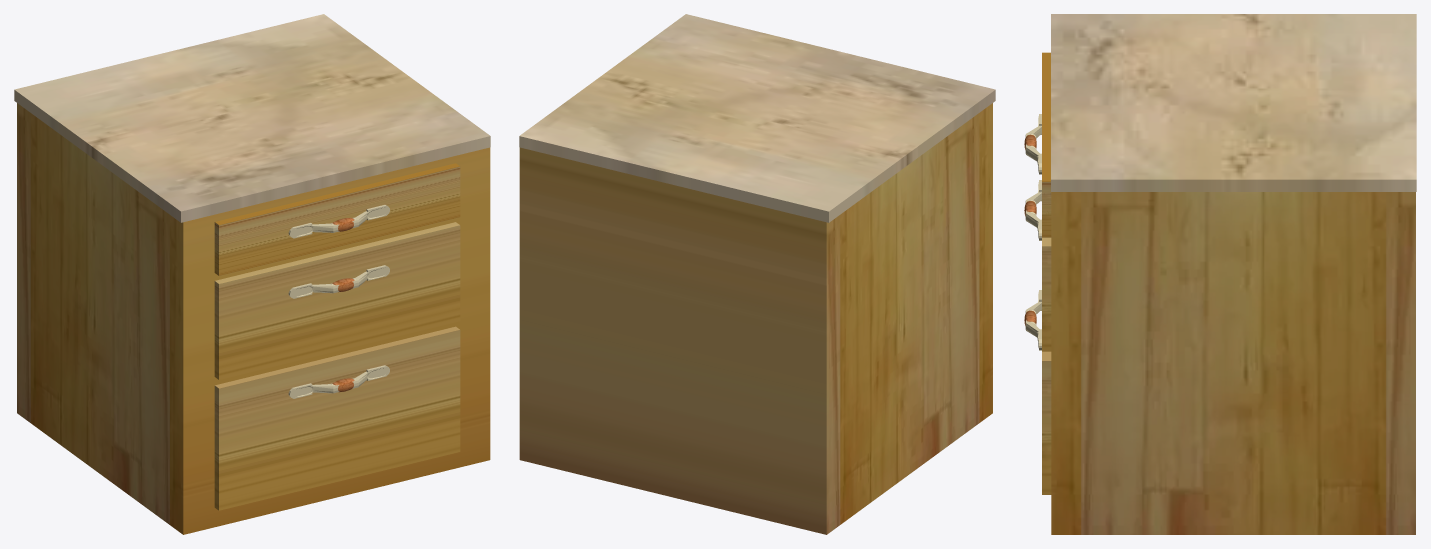
The model's file is sh-contrib-3-drawer-cabinet.glb.
The picture shows the model from 3 angles, left to right: view 1: azimuth 30°, elevation 25°; view 2: azimuth 150°, elevation 25°; view 3: azimuth 270°, elevation 25°; orthographic projection. The views are drawn at different scales.
Visible parts, largest first — view 1: Cube_3, PolyMesh_2, Tube_1, PolyMesh_1; view 2: Cube_3, PolyMesh_2; view 3: Cube_3, PolyMesh_2, Tube_1.
Boxes of the visible parts, x1,y1,x2,y2 form: Cube_3: [17, 103, 490, 534]; PolyMesh_2: [14, 14, 490, 222]; Tube_1: [288, 205, 389, 398]; PolyMesh_1: [332, 218, 354, 392]; Cube_3: [519, 103, 992, 534]; PolyMesh_2: [519, 14, 995, 222]; Cube_3: [1042, 52, 1415, 534]; PolyMesh_2: [1051, 14, 1416, 191]; Tube_1: [1025, 114, 1041, 350].
Bounding box in the file's own units: 1 × 1 × 1.
Materials: 4 (3 with a texture image).
